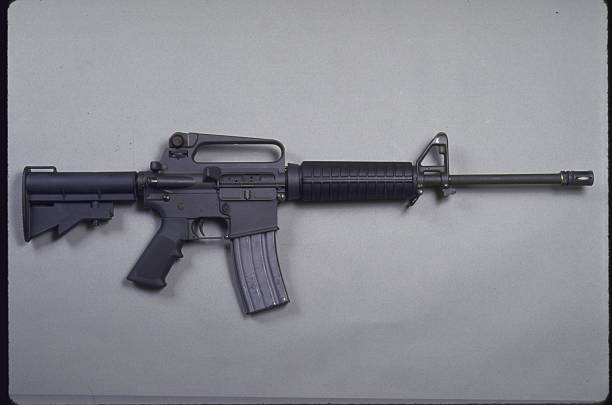rifle: (20, 112, 601, 336)
